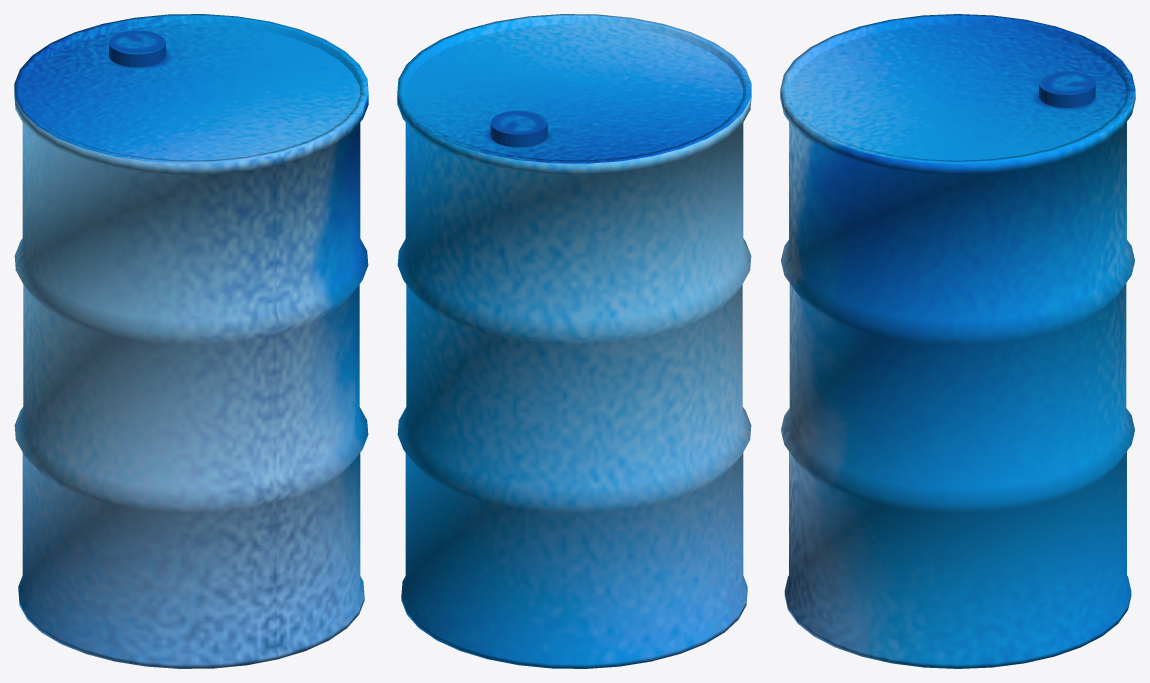
The model's file is barrel1.fbx.
The picture shows the model from 3 angles, left to right: view 1: azimuth 30°, elevation 25°; view 2: azimuth 150°, elevation 25°; view 3: azimuth 270°, elevation 25°; orthographic projection.
Visible parts, largest first — view 1: Cylinder; view 2: Cylinder; view 3: Cylinder.
Part boxes in pixels (bbox=[...]): Cylinder: bbox=[14, 14, 368, 668]; Cylinder: bbox=[397, 14, 751, 668]; Cylinder: bbox=[780, 14, 1135, 668].
Bounding box in the file's own units: 62.33 × 99.35 × 62.33.
1 material, 1 textured.
